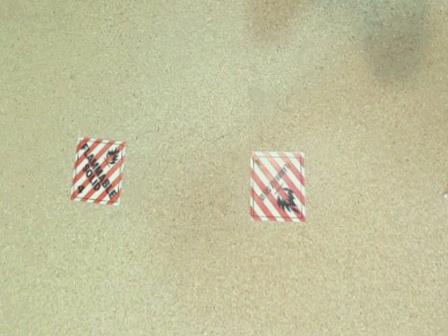flammable-solid: (247, 151, 309, 220), (69, 136, 126, 207), (439, 149, 448, 257)
